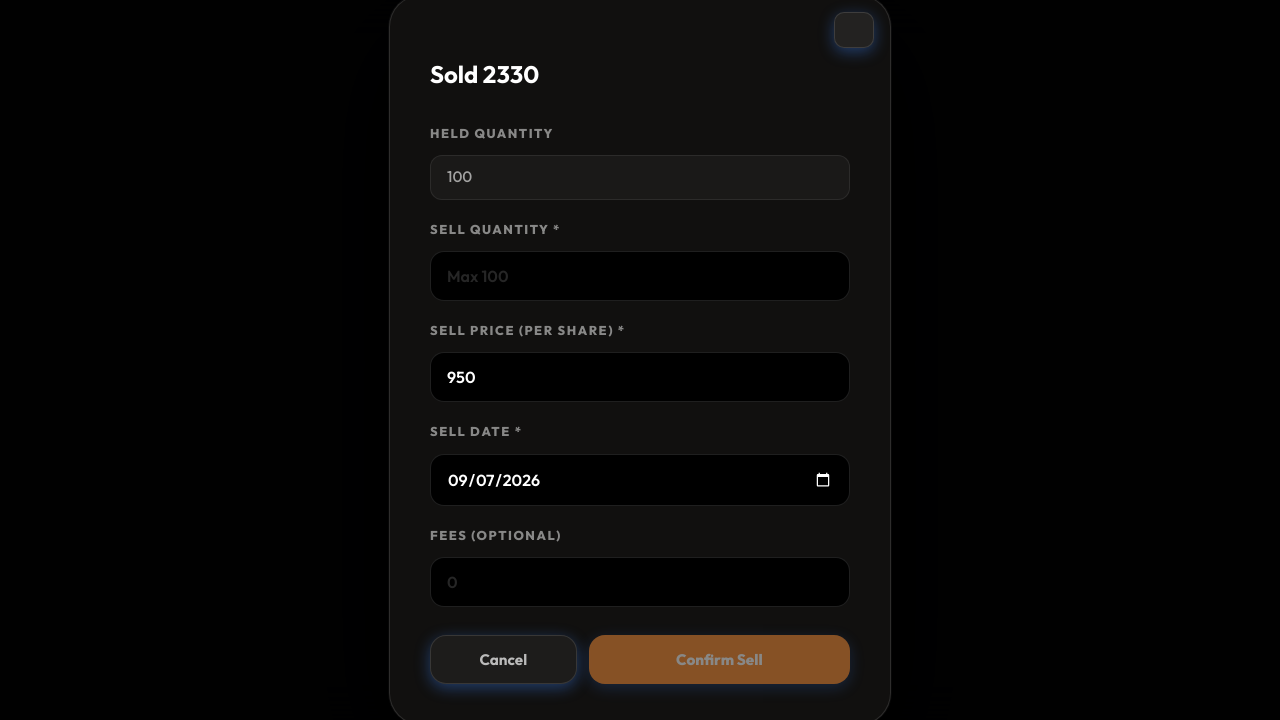
Test: SellAssetModal › confirm button enables when qty and price are filled
This screenshot has width=1280, height=720.
Type "10" into the number field with placeholder "Max 100". click: (640, 276)
box: x1=430 y1=251 x2=850 y2=301
(page scrolled)
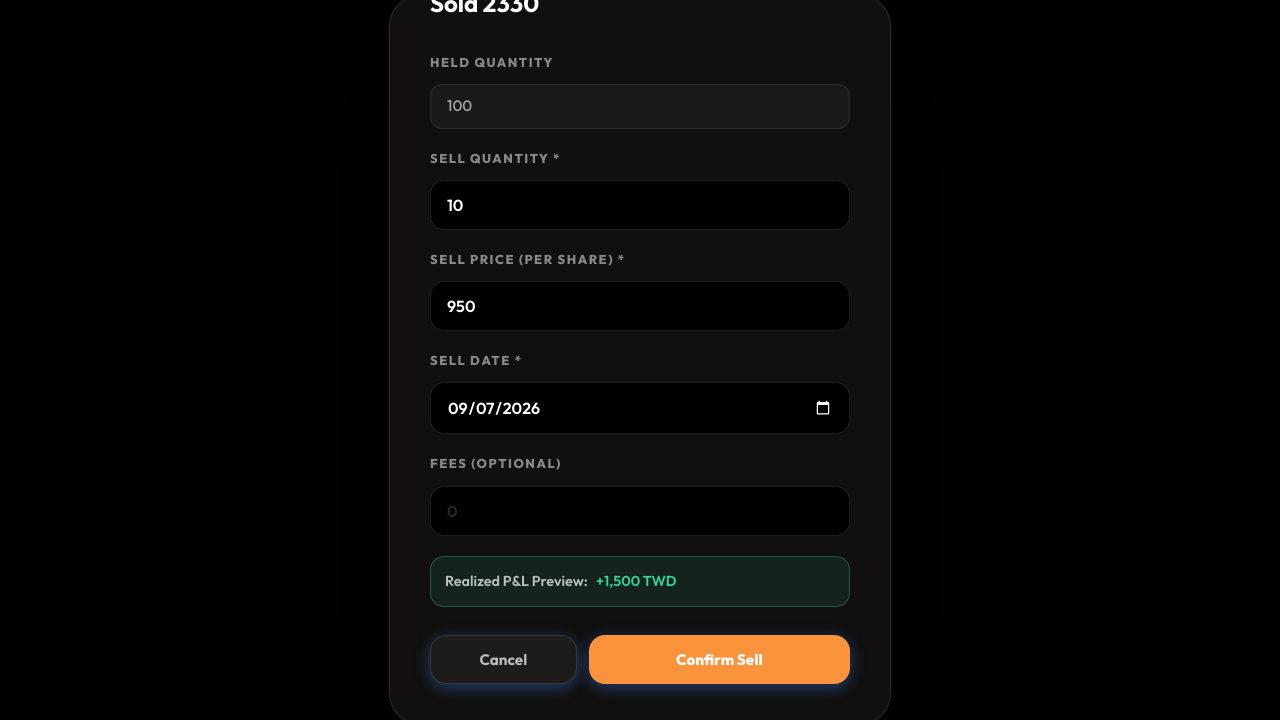
Check: the button "Confirm Sell" is enabled, box x1=589 y1=635 x2=850 y2=684
